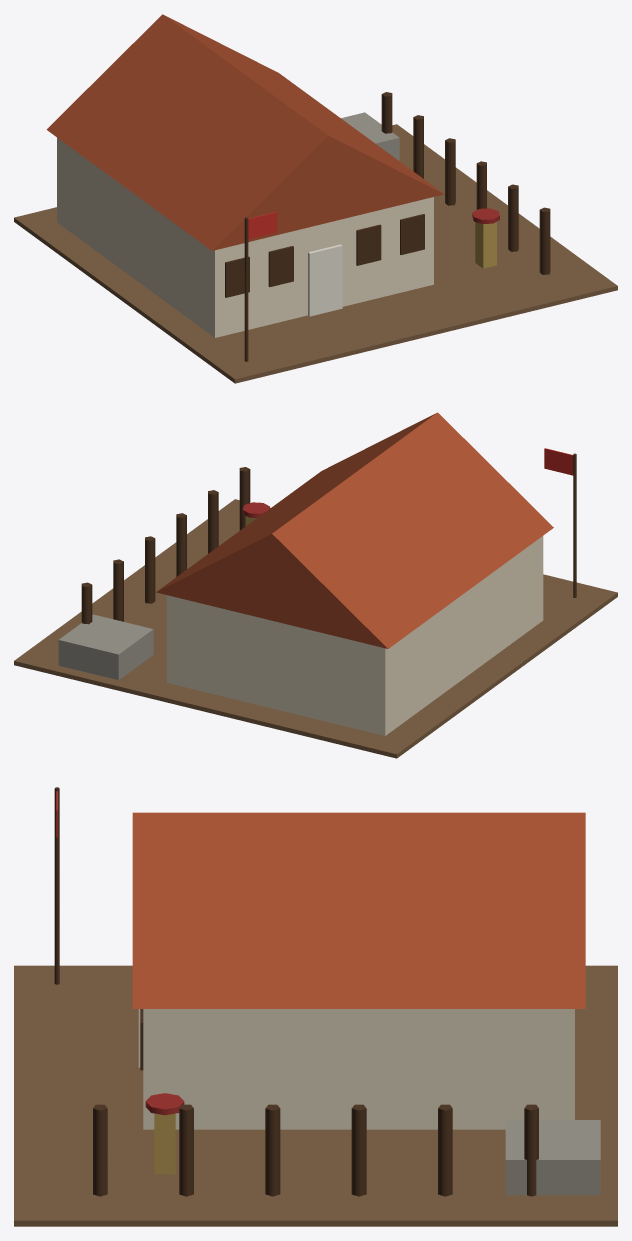
File: bld_special_barracks_a02_lod1.glb
The picture shows the model from 3 angles, top to bottom: view 1: azimuth 30°, elevation 25°; view 2: azimuth 150°, elevation 25°; view 3: azimuth 270°, elevation 25°; orthographic projection. The views are drawn at different scales.
Visible parts, largest first — view 1: body; view 2: body; view 3: body.
Part boxes in pixels (left/top/right/bottom): body: left=14, top=14, right=617, bottom=383; body: left=14, top=412, right=617, bottom=758; body: left=14, top=787, right=617, bottom=1226.
Size of the model in its own units: 14 by 6.39 by 14.
